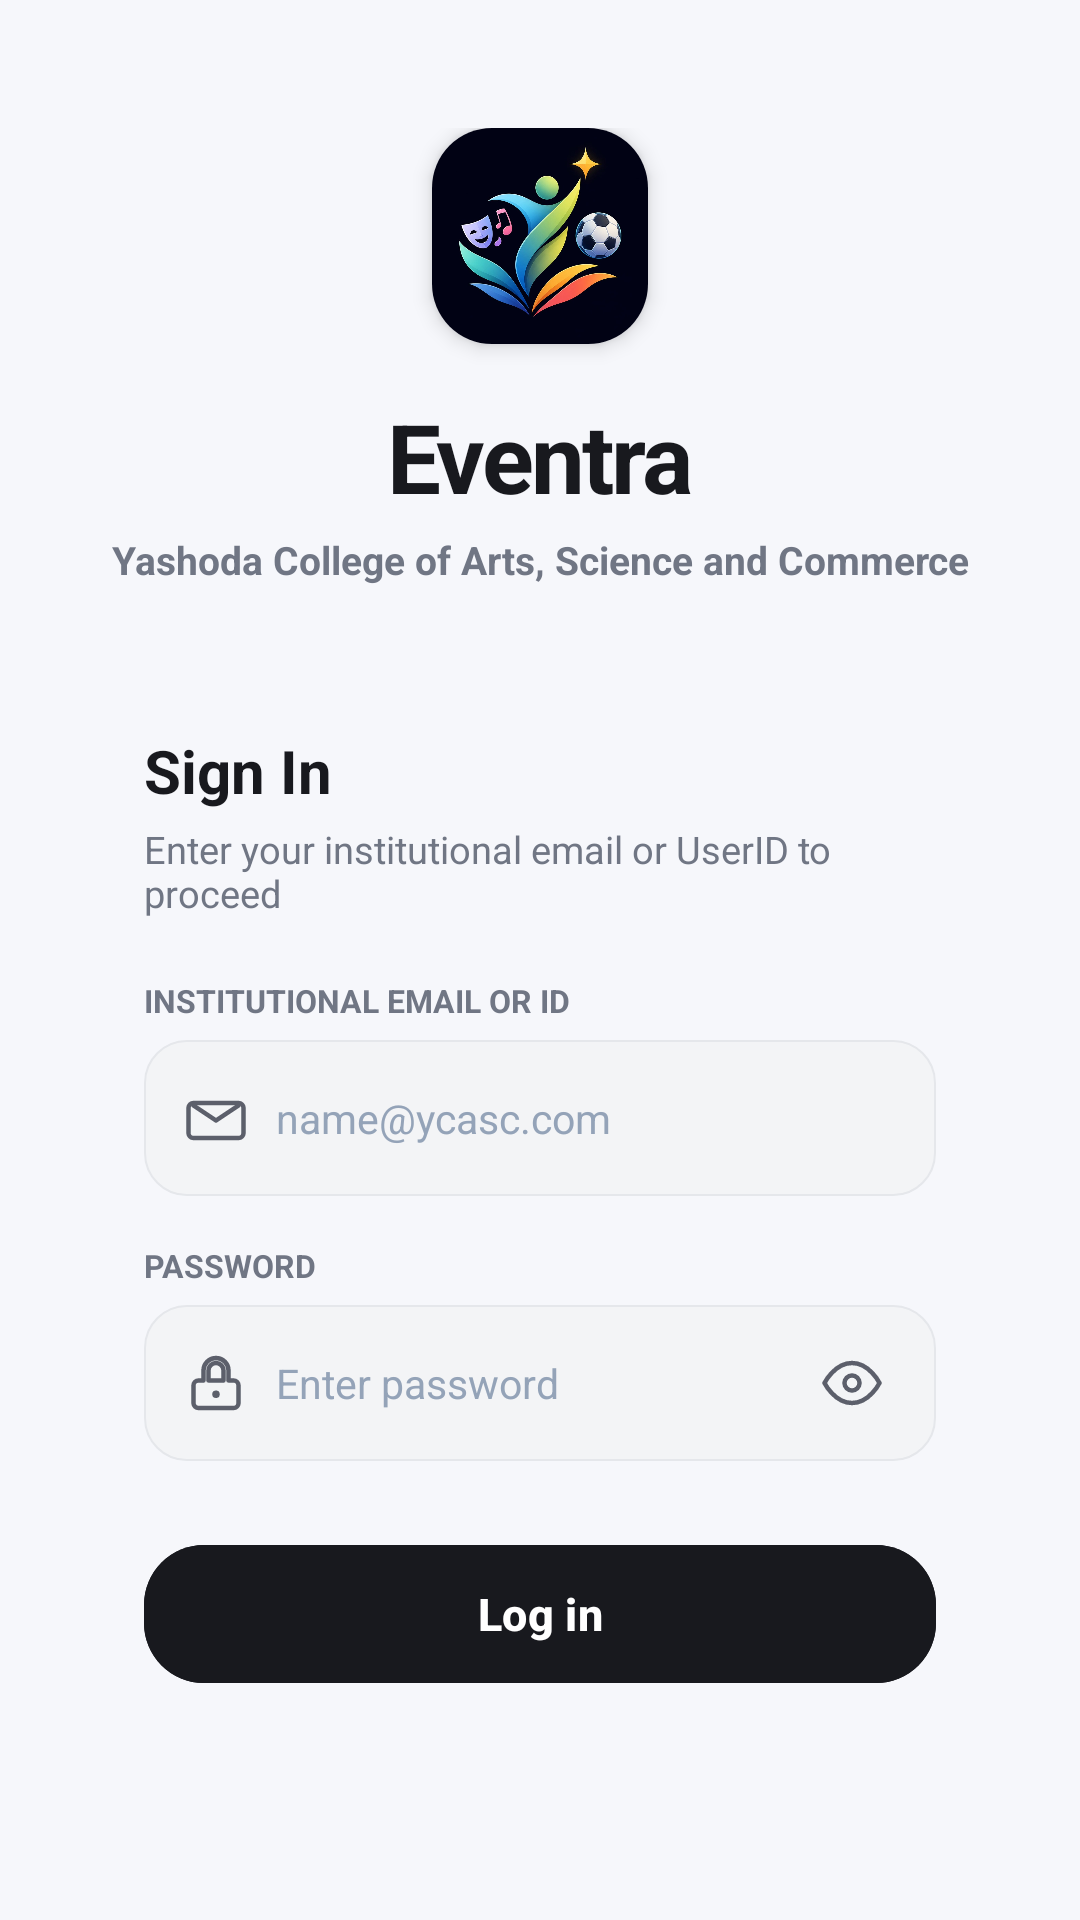

Where to tap for icons on this 1080px x 1920px app screen, as (x=x, y=y):
eye: (x=852, y=1383)
lock: (x=216, y=1383)
